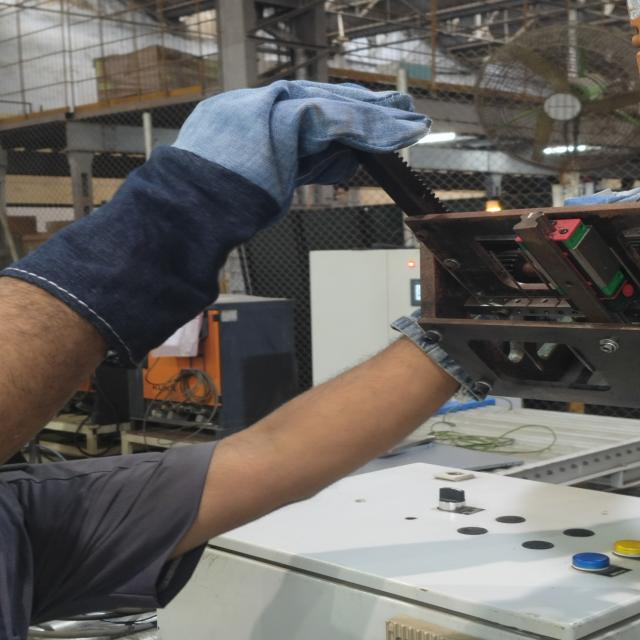Gloves-Detection: (0, 71, 410, 357)
